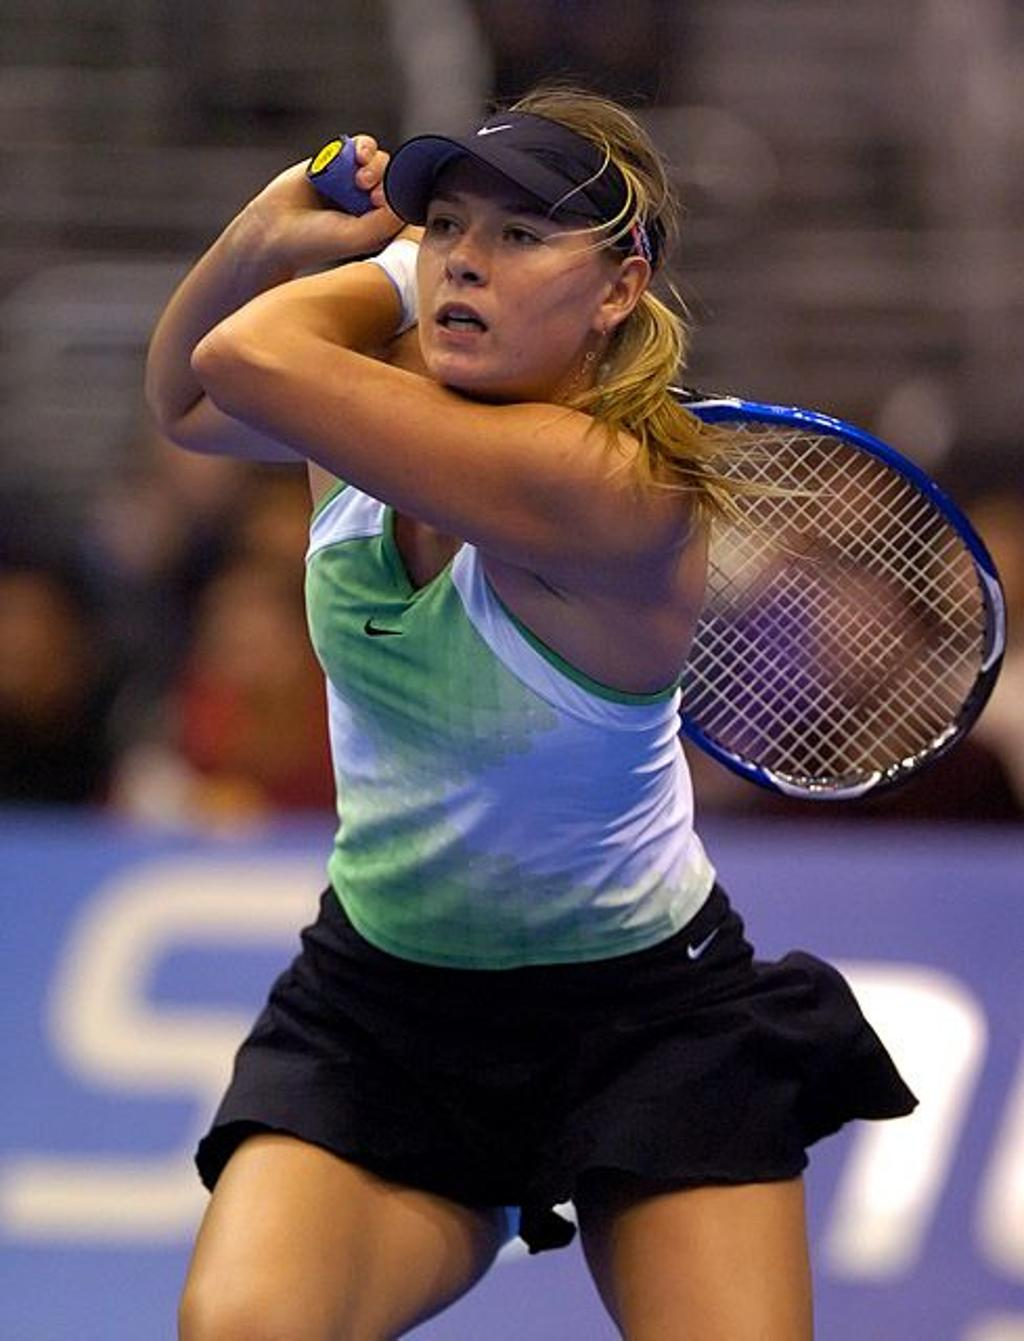face: (414, 152, 600, 385)
